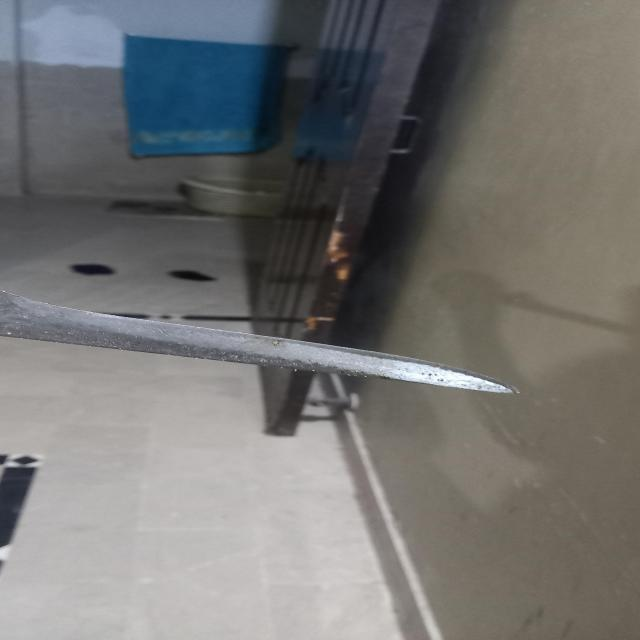Knife: (0, 283, 519, 406)
